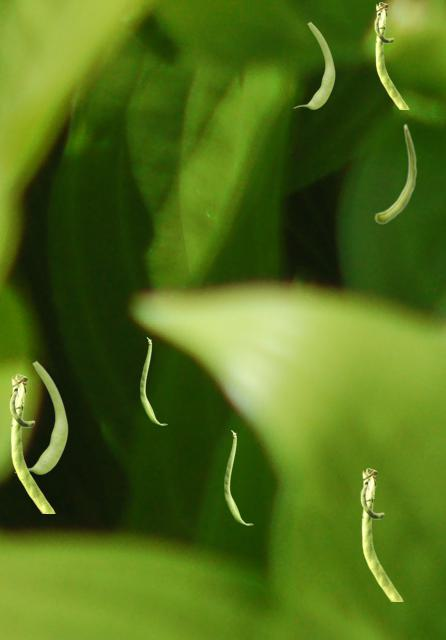french_bean: (9, 374, 54, 512), (14, 360, 67, 473), (360, 468, 402, 600), (374, 123, 416, 223), (374, 2, 408, 108), (293, 21, 334, 108), (224, 430, 252, 524), (140, 337, 166, 424)
